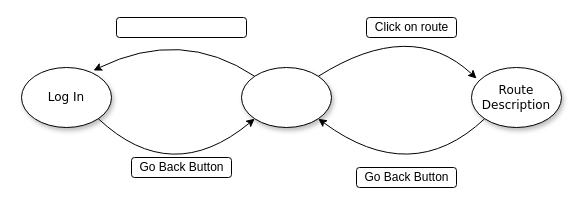
Image size: 585x205. Some labels were removed from this diagram. The shapes that lost their labels are listed below. From the top down, each one's centre as x and y in pixels, then its label:
the point at 181,27: Click on Log-in Button
the point at 287,98: Main Page
